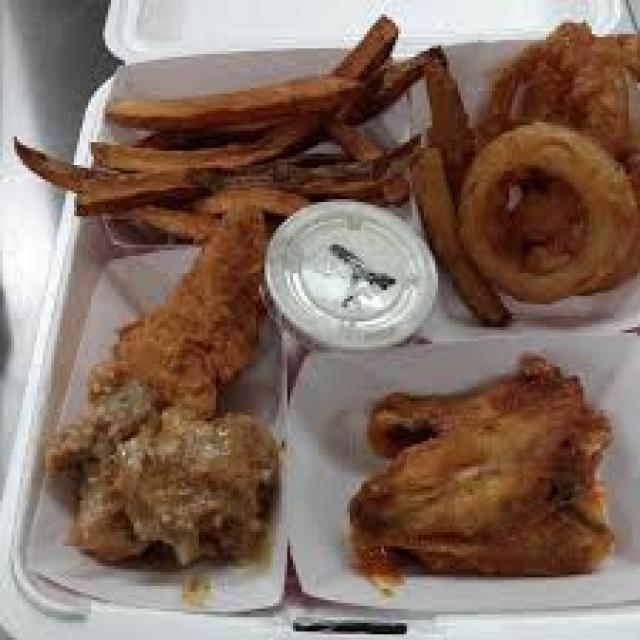Chicken Wings: (29, 236, 637, 612)
French Fries: (3, 14, 435, 228)
Onion Rings: (413, 23, 637, 338)
